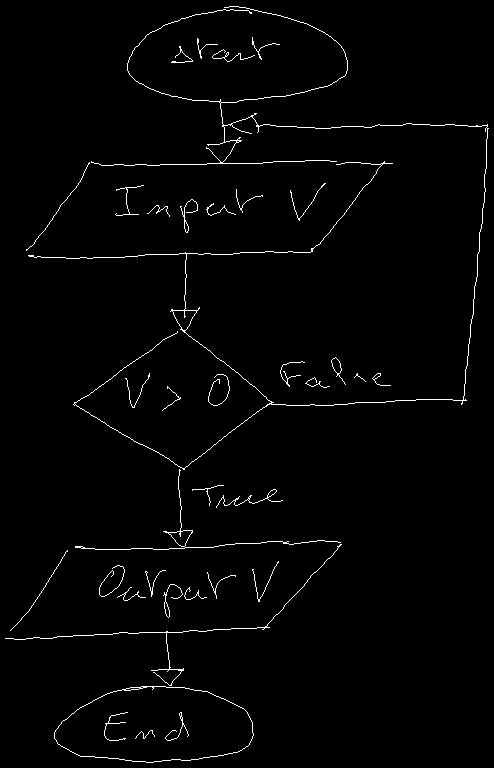arrow: (222, 113, 488, 405), (170, 252, 199, 331), (206, 99, 241, 163), (163, 469, 192, 546), (151, 631, 183, 685)
data: (26, 160, 392, 258), (5, 540, 341, 639)
decision: (73, 329, 273, 469)
terminator: (127, 6, 347, 102), (54, 686, 253, 762)
text: (115, 183, 325, 232), (99, 561, 278, 617), (125, 373, 229, 410), (280, 357, 390, 387), (171, 37, 279, 62), (104, 712, 188, 740), (192, 485, 282, 507)
